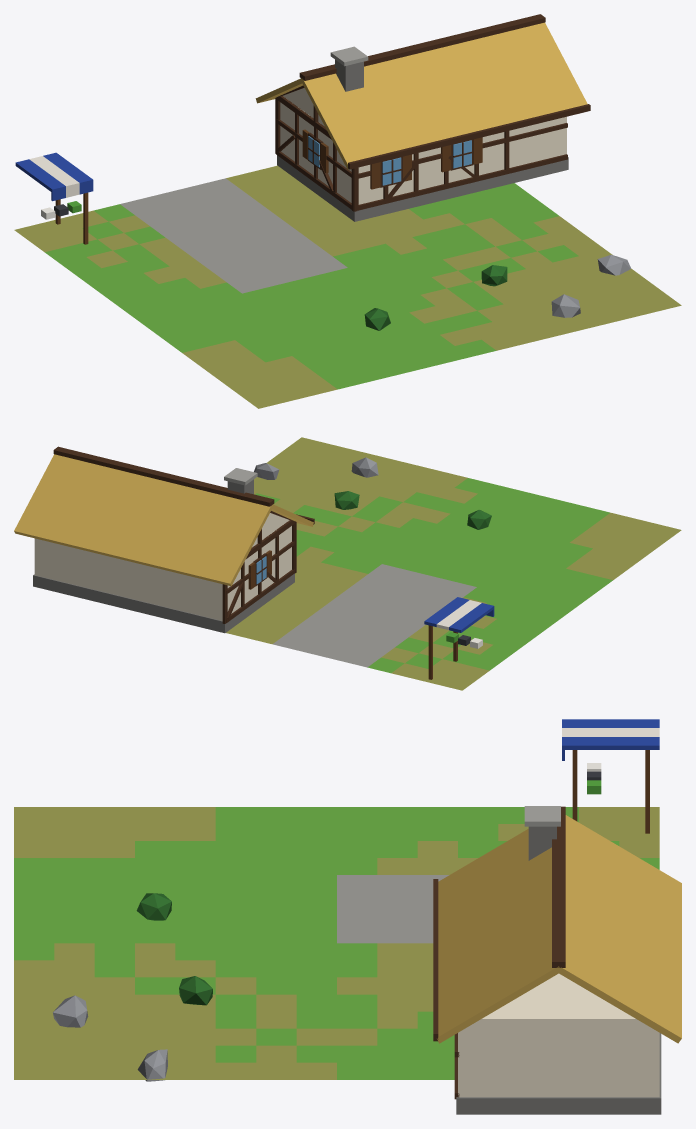
The model's file is chunk_10_6.glb.
3 views of the same model, one above another, from view 1: azimuth 30°, elevation 25°; view 2: azimuth 150°, elevation 25°; view 3: azimuth 270°, elevation 25° (orthographic). The views are drawn at different scales.
Parts seen in each view (by area): view 1: chunk_10_6; view 2: chunk_10_6; view 3: chunk_10_6.
Part boxes in pixels (x1,y1,x2,y2): chunk_10_6: [14, 14, 681, 408]; chunk_10_6: [14, 437, 681, 690]; chunk_10_6: [14, 719, 681, 1114].
Bounding box in the file's own units: 18.55 × 5.38 × 16.55.
